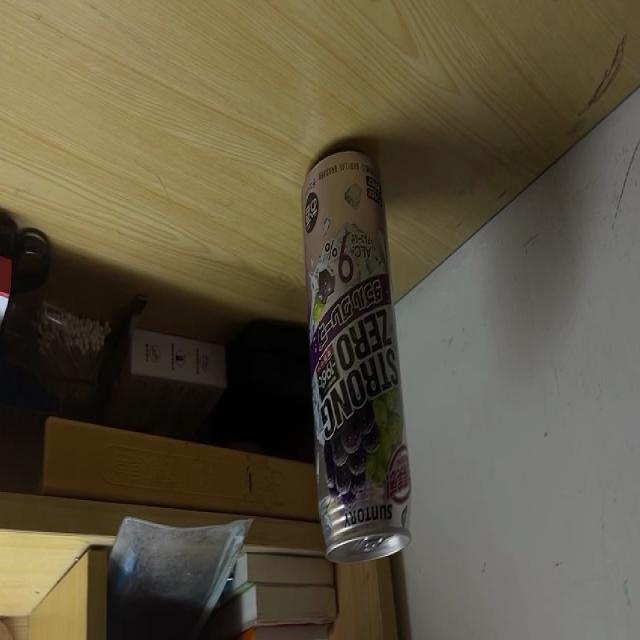Liquor: (296, 146, 411, 570)
